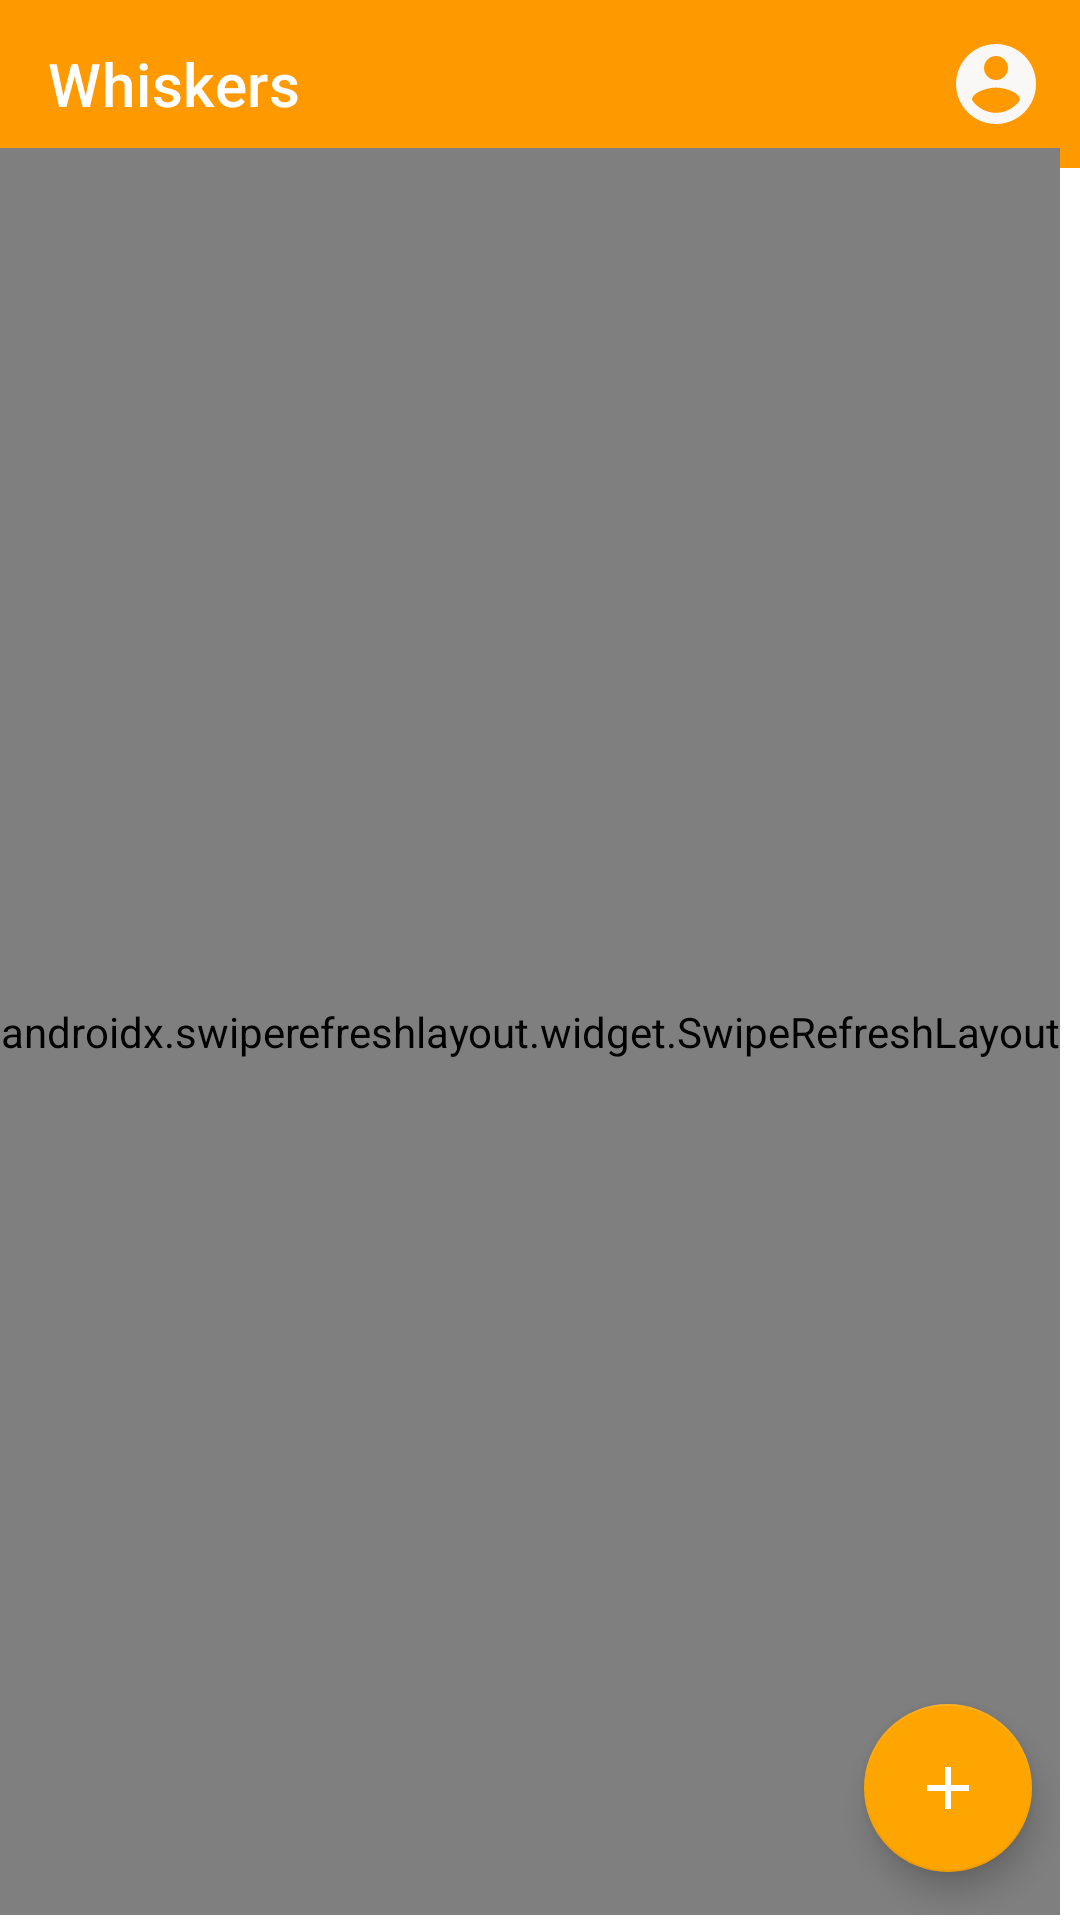

Icons on this 1080×1920 Android screen, each with its box as (x1, y1, x2, y2):
Add Post: (864, 1704, 1032, 1872)
